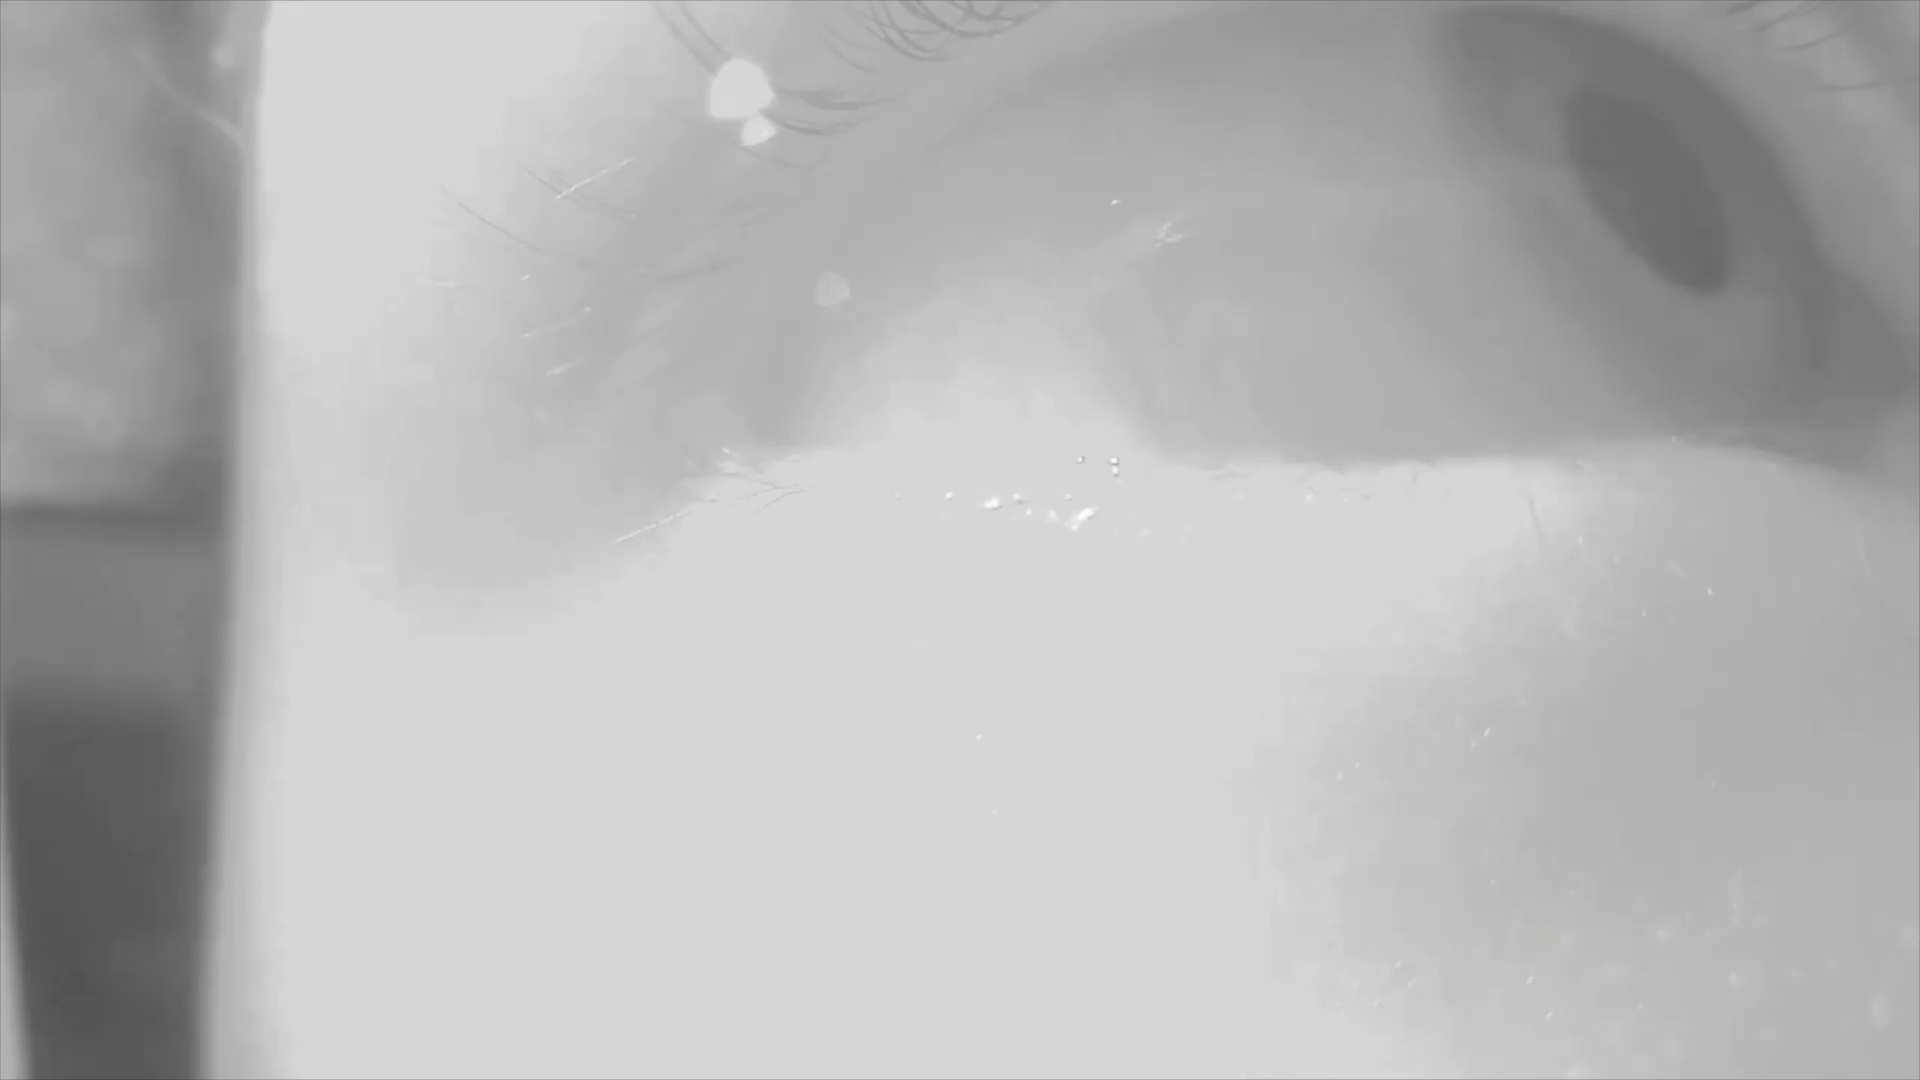pupil: (1553, 84, 1734, 297)
